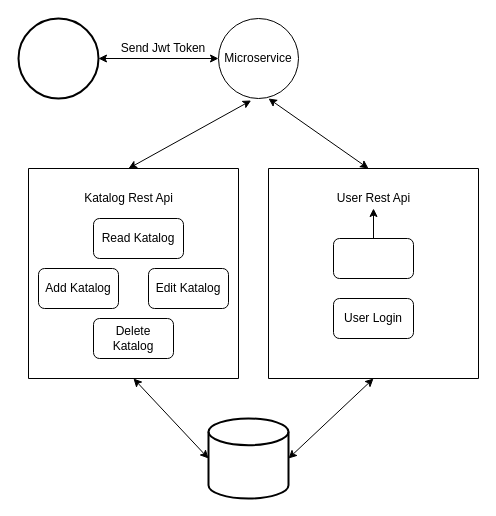
Image size: 496x516. Some labels were removed from this diagram. The centre of each missing label's shape, as x and y in pixels:
Frontend Ui: the point at 58,58
PostgresSql: the point at 248,458
User Registrasion: the point at 373,258
